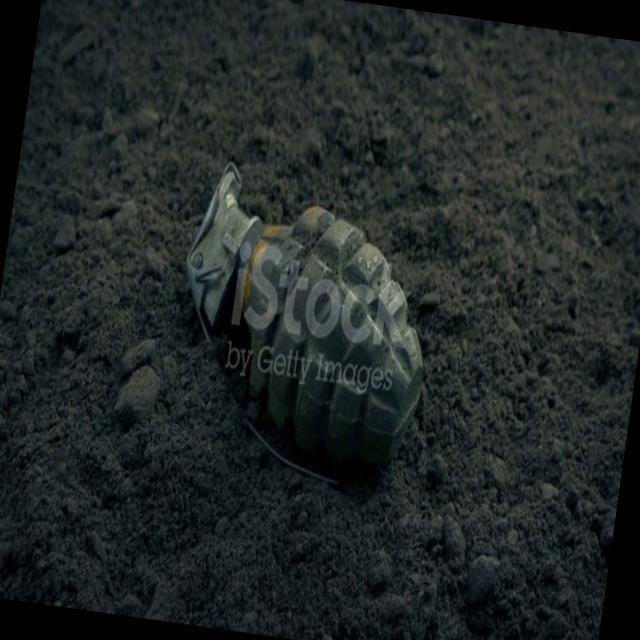grenade: (153, 146, 455, 496)
